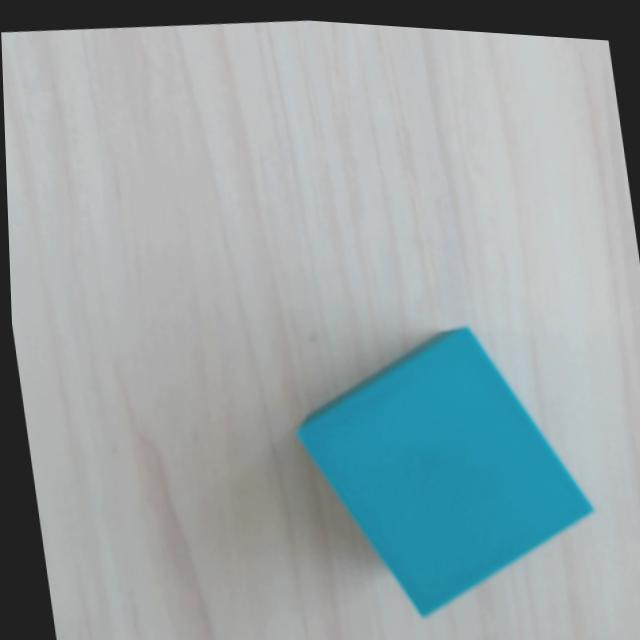Kubus-Hijau-505050: (290, 312, 593, 625)
